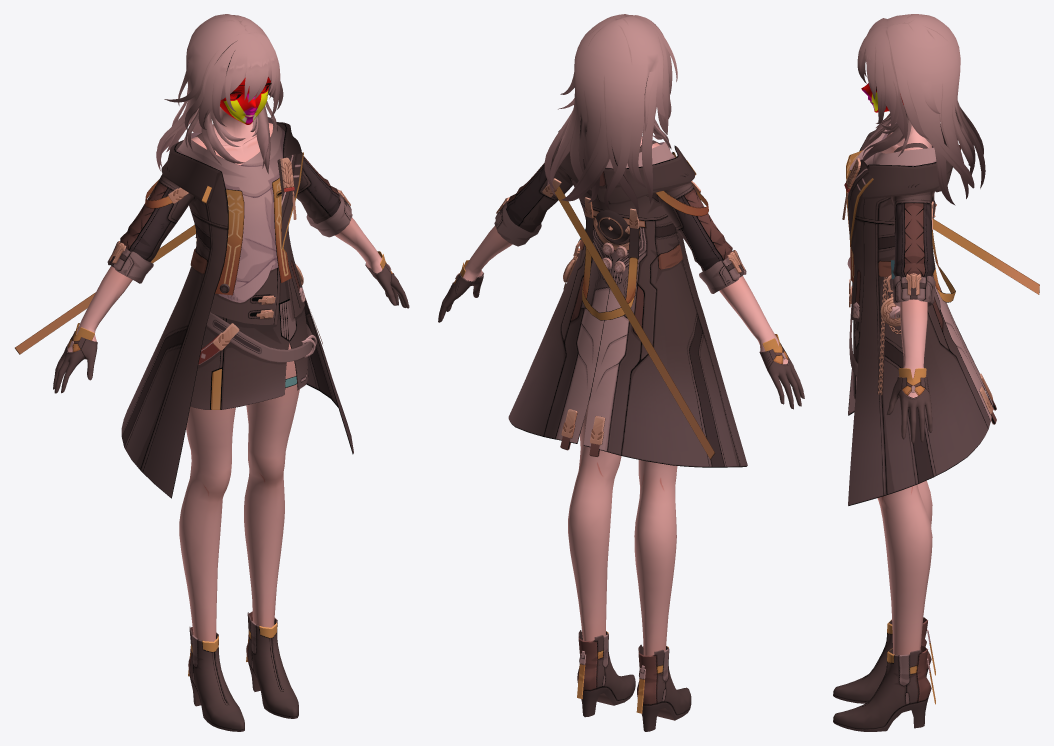
The model's file is STELLE.glb.
3 renders of one model, left to right at view 1: azimuth 30°, elevation 25°; view 2: azimuth 150°, elevation 25°; view 3: azimuth 270°, elevation 25°, orthographic. The views are drawn at different scales.
Parts seen in each view (by area): view 1: Object_7; view 2: Object_7; view 3: Object_7.
Boxes of the visible parts, x1=… form: Object_7: x1=15, y1=14, x2=409, y2=731; Object_7: x1=438, y1=14, x2=804, y2=731; Object_7: x1=833, y1=14, x2=1039, y2=731.
Size of the model in its own units: 0.9088 by 1.68 by 0.4539.
4 materials, 3 textured.
